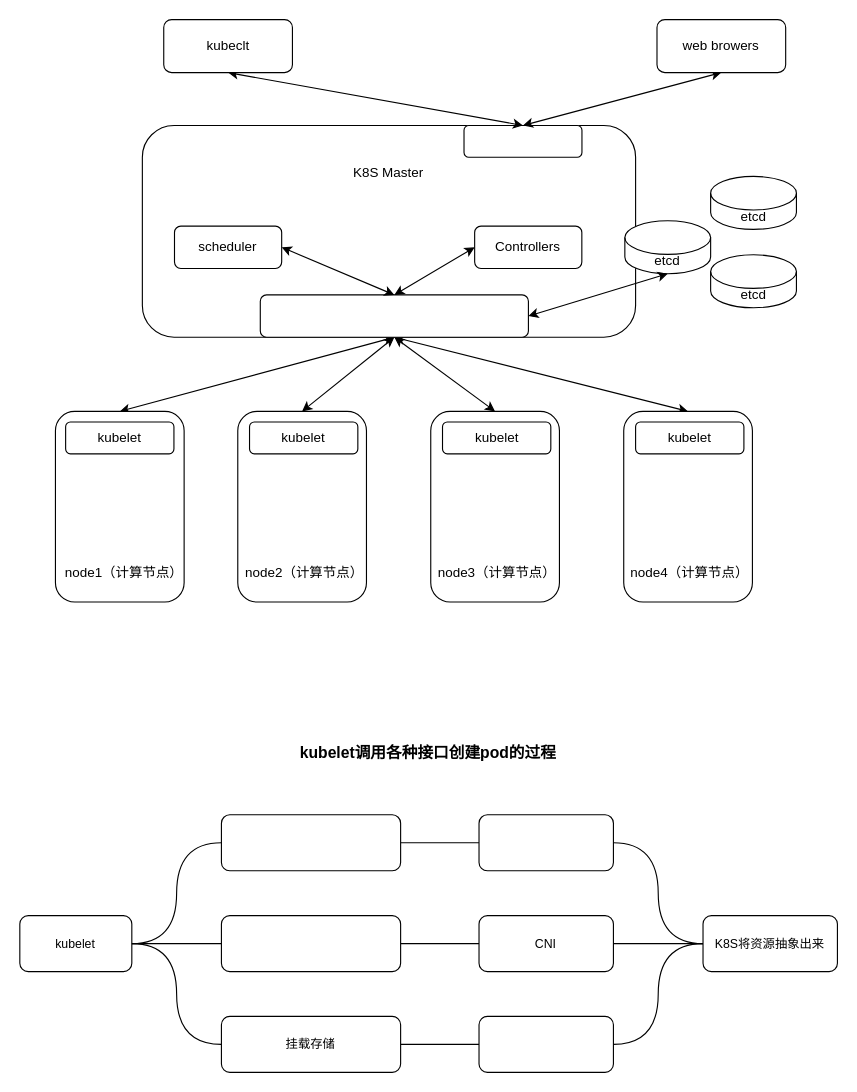
Some shapes in this 857 by 1092 pixel diagram are drawn without their labels. The shapes that lost their labels are listed below. From the top down, each one's centre as x and y in pixels, then its label:
At (522,140): "Dash Board".
At (393,315): "API Server （认证，授权，准入）".
At (310,842): "通过runtime拉起进程".
At (545,842): "CRI".
At (310,943): "挂载网络".
At (545,1043): "CSI".
